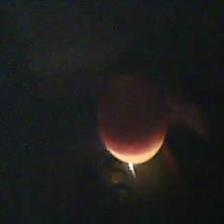fertile: (91, 72, 170, 166)
